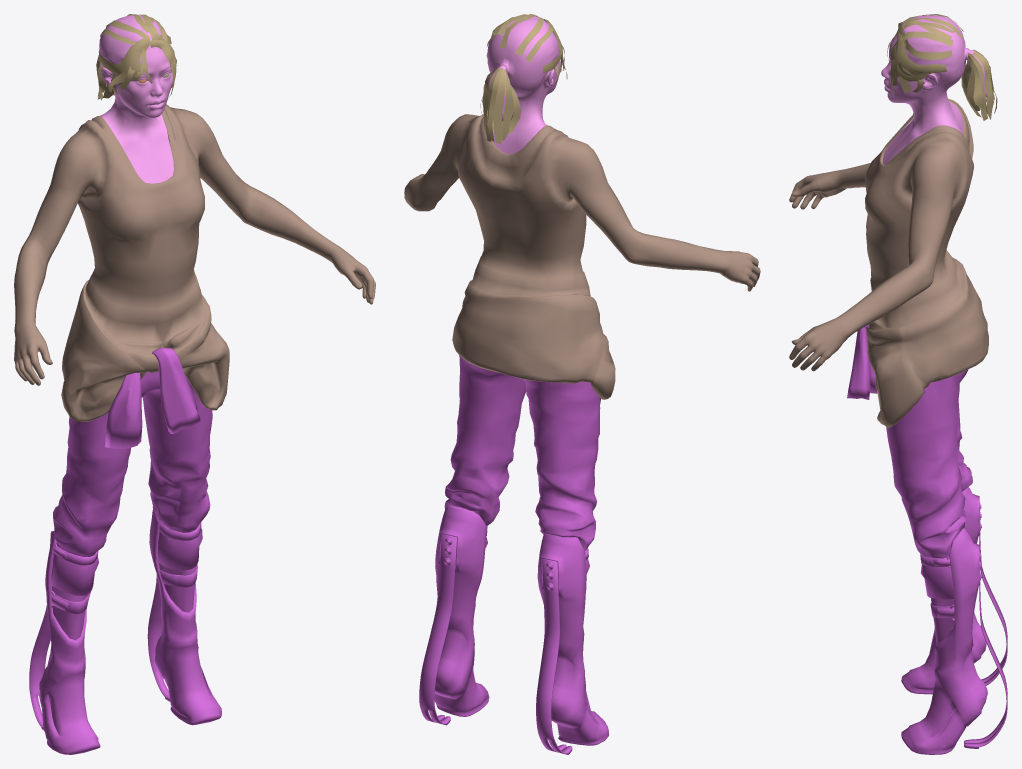
File: Chell_sem_texturas.obj
3 renders of one model, left to right at view 1: azimuth 30°, elevation 25°; view 2: azimuth 150°, elevation 25°; view 3: azimuth 270°, elevation 25°, orthographic.
Visible parts, largest first — view 1: player_model_torso, player_model_legs, player_model_head, player_model_hair; view 2: player_model_torso, player_model_legs, player_model_head, player_model_hair; view 3: player_model_torso, player_model_legs, player_model_head, player_model_hair.
Boxes of the visible parts, bbox=[...] form: player_model_torso: bbox=[14, 104, 375, 421]; player_model_legs: bbox=[29, 347, 221, 754]; player_model_head: bbox=[99, 15, 173, 183]; player_model_hair: bbox=[96, 14, 176, 100]; player_model_torso: bbox=[404, 114, 760, 399]; player_model_legs: bbox=[419, 355, 609, 754]; player_model_head: bbox=[487, 16, 560, 153]; player_model_hair: bbox=[480, 14, 567, 143]; player_model_torso: bbox=[789, 98, 988, 428]; player_model_legs: bbox=[847, 325, 1007, 754]; player_model_head: bbox=[881, 15, 987, 164]; player_model_hair: bbox=[887, 14, 997, 120].
Bounding box in the file's own units: 3964 × 7658 × 2171.
